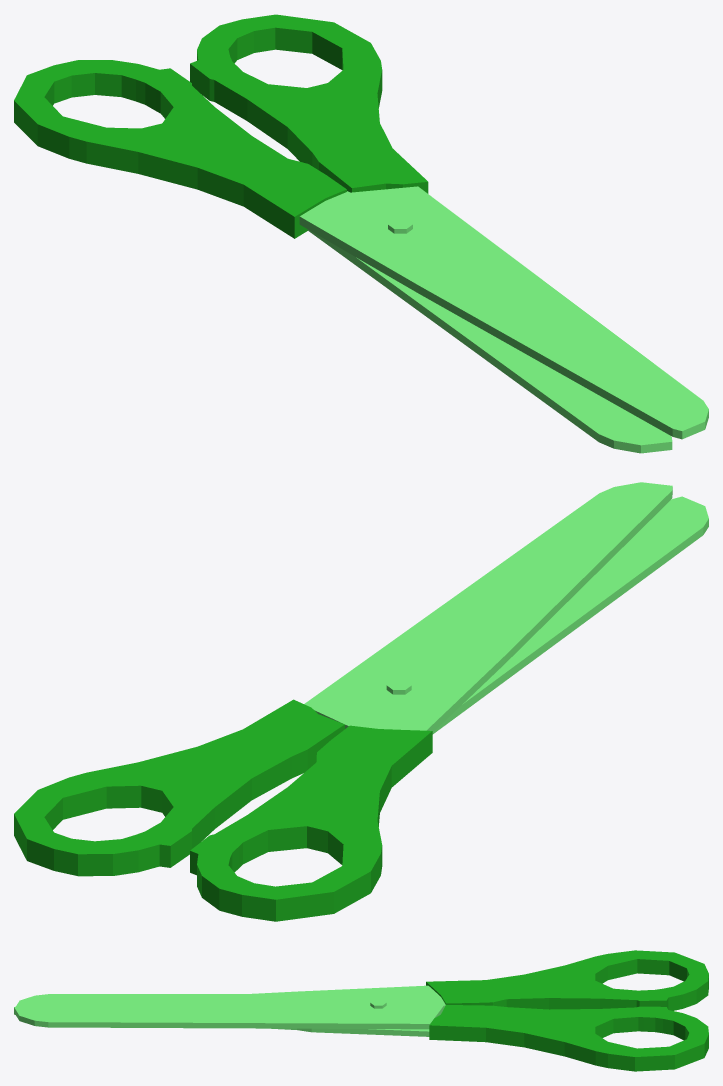
File: ScissorsPlaneTemp.fbx
The picture shows the model from 3 angles, top to bottom: view 1: azimuth 30°, elevation 25°; view 2: azimuth 150°, elevation 25°; view 3: azimuth 270°, elevation 25°; orthographic projection. The views are drawn at different scales.
Visible parts, largest first — view 1: BladeRight, BladeLeft; view 2: BladeRight, BladeLeft; view 3: BladeRight, BladeLeft.
Part boxes in pixels (left/top/right/bottom): BladeRight: left=14, top=60, right=708, bottom=439; BladeLeft: left=190, top=14, right=672, bottom=453; BladeRight: left=190, top=482, right=672, bottom=921; BladeLeft: left=14, top=496, right=708, bottom=876; BladeRight: left=14, top=950, right=708, bottom=1029; BladeLeft: left=14, top=994, right=708, bottom=1071.
Bounding box in the file's own units: 153 × 10.56 × 421.
